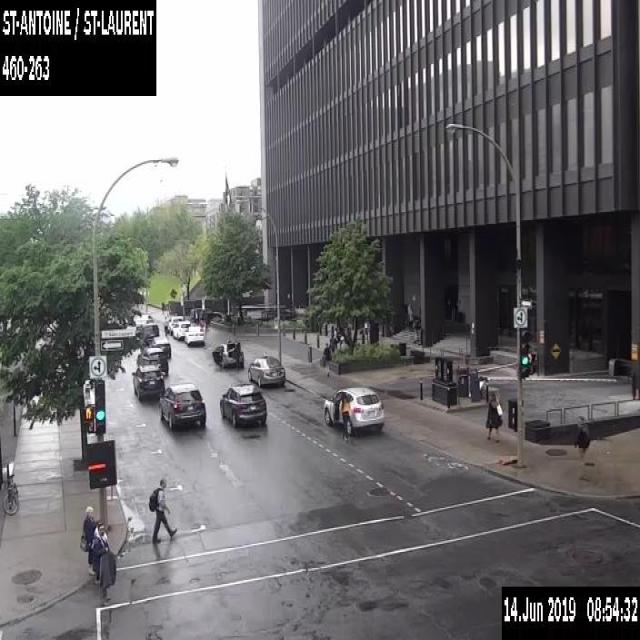pedestrian: (148, 476, 178, 545), (92, 520, 116, 605), (78, 505, 98, 574), (482, 389, 502, 444), (574, 415, 590, 464), (338, 392, 351, 444), (232, 337, 241, 367), (163, 314, 168, 335)
vehicle: (323, 384, 385, 433), (219, 382, 267, 429), (159, 382, 205, 431), (247, 350, 285, 387), (131, 364, 164, 401), (211, 338, 243, 368), (136, 345, 168, 374), (149, 336, 170, 358), (140, 322, 158, 347), (171, 319, 190, 340), (184, 325, 204, 344), (168, 315, 182, 334)
